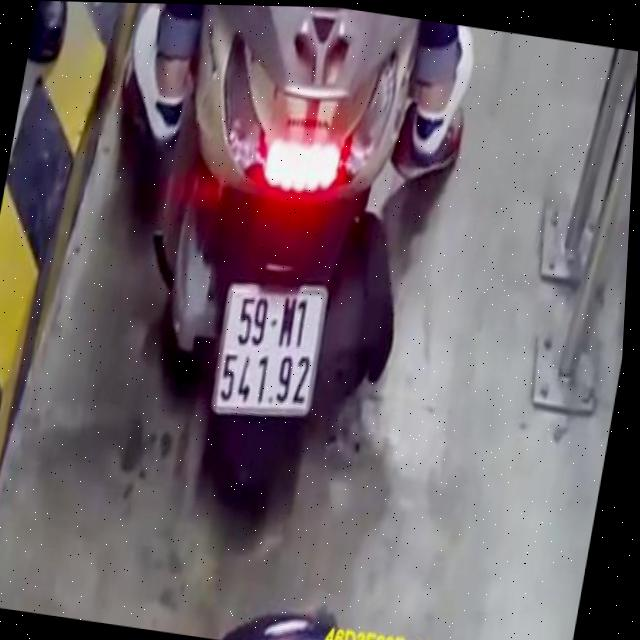motorcycle: (93, 3, 456, 527)
plate: (203, 268, 340, 433)
